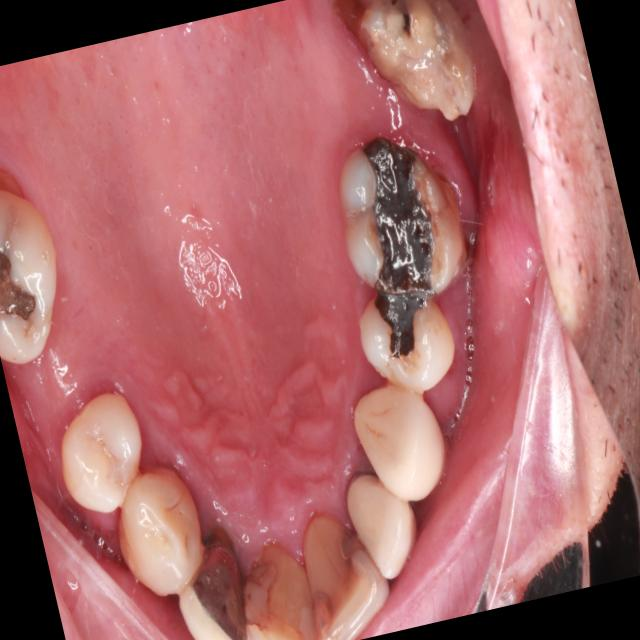tooth: (304, 102, 486, 323), (339, 0, 493, 155), (32, 362, 172, 532), (94, 437, 226, 617), (340, 363, 468, 533), (339, 255, 477, 407), (0, 143, 84, 377), (275, 485, 401, 640), (213, 510, 342, 640), (330, 444, 439, 595), (147, 512, 268, 640)
